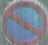No waiting: (1, 2, 47, 43)
